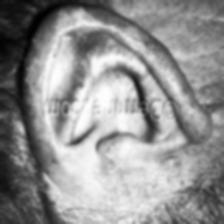Non-Cancerous Skin Condition: (23, 122, 219, 222), (20, 12, 224, 90)
